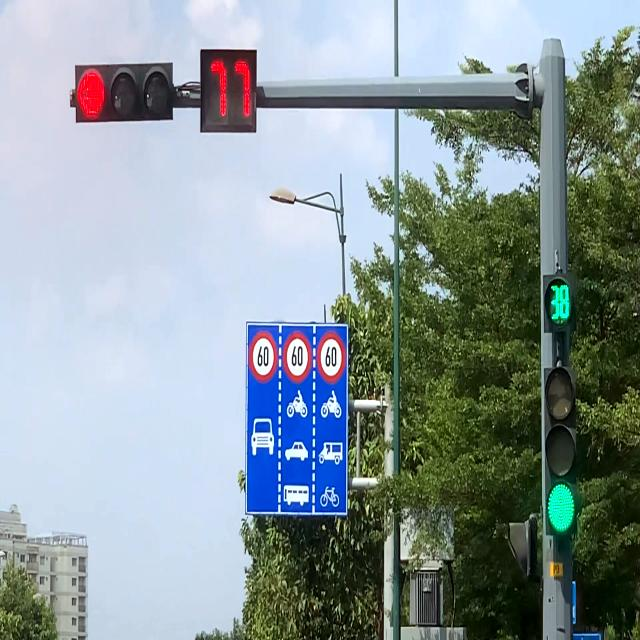P.127: (248, 331, 278, 384), (282, 331, 312, 384), (317, 331, 346, 383)
